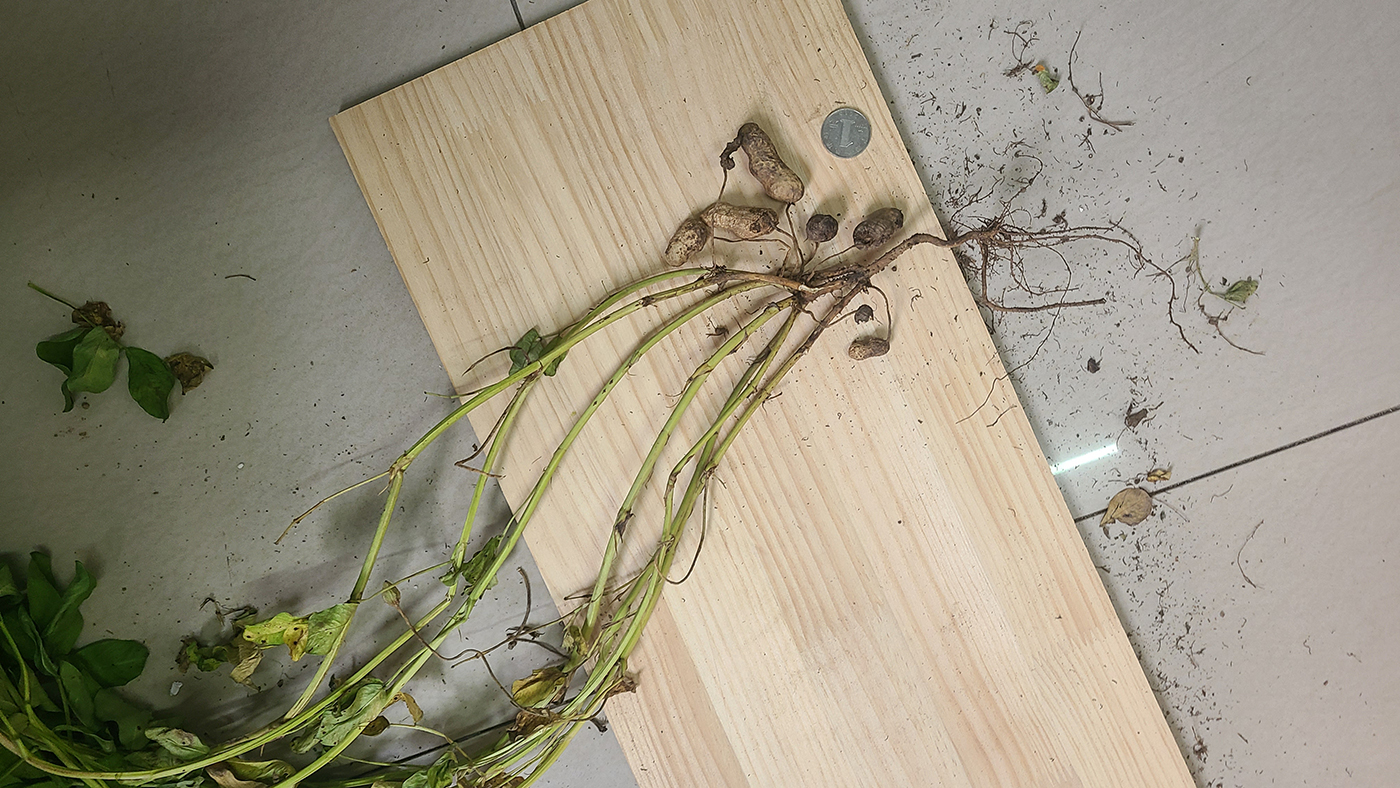h: (703, 203, 780, 239), (665, 220, 706, 268)
l: (738, 123, 804, 205), (852, 208, 905, 249), (847, 339, 890, 360), (805, 216, 839, 242), (720, 134, 744, 169), (854, 305, 875, 325)
